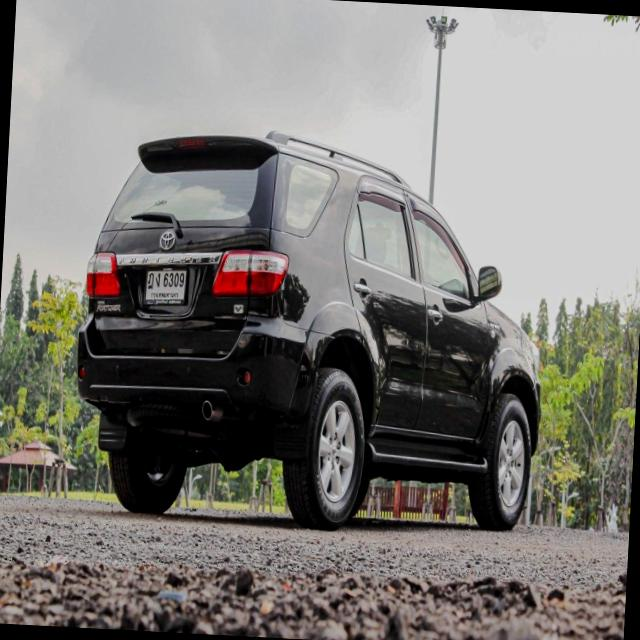license_plate: (142, 266, 189, 308)
